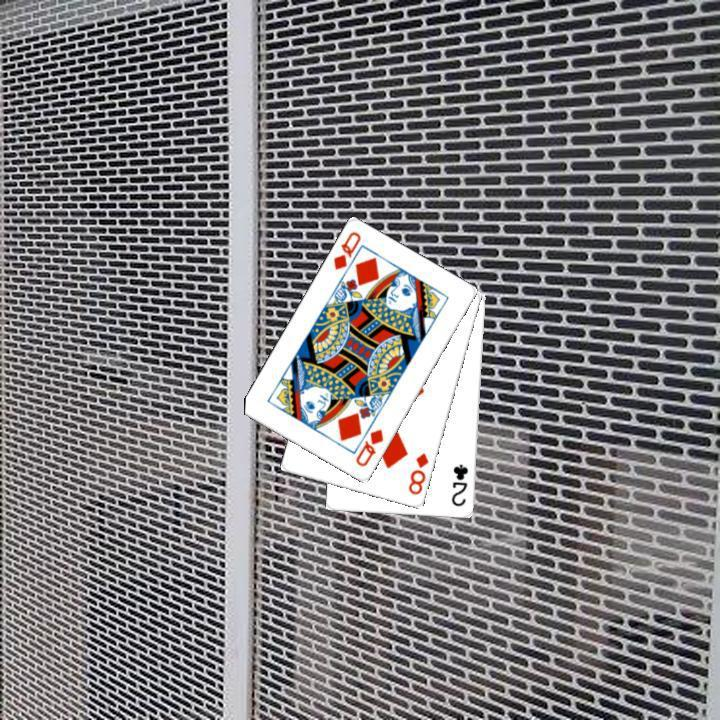2: (448, 460, 470, 509)
8: (404, 448, 431, 497)
Q: (329, 227, 363, 273), (351, 425, 386, 469)
